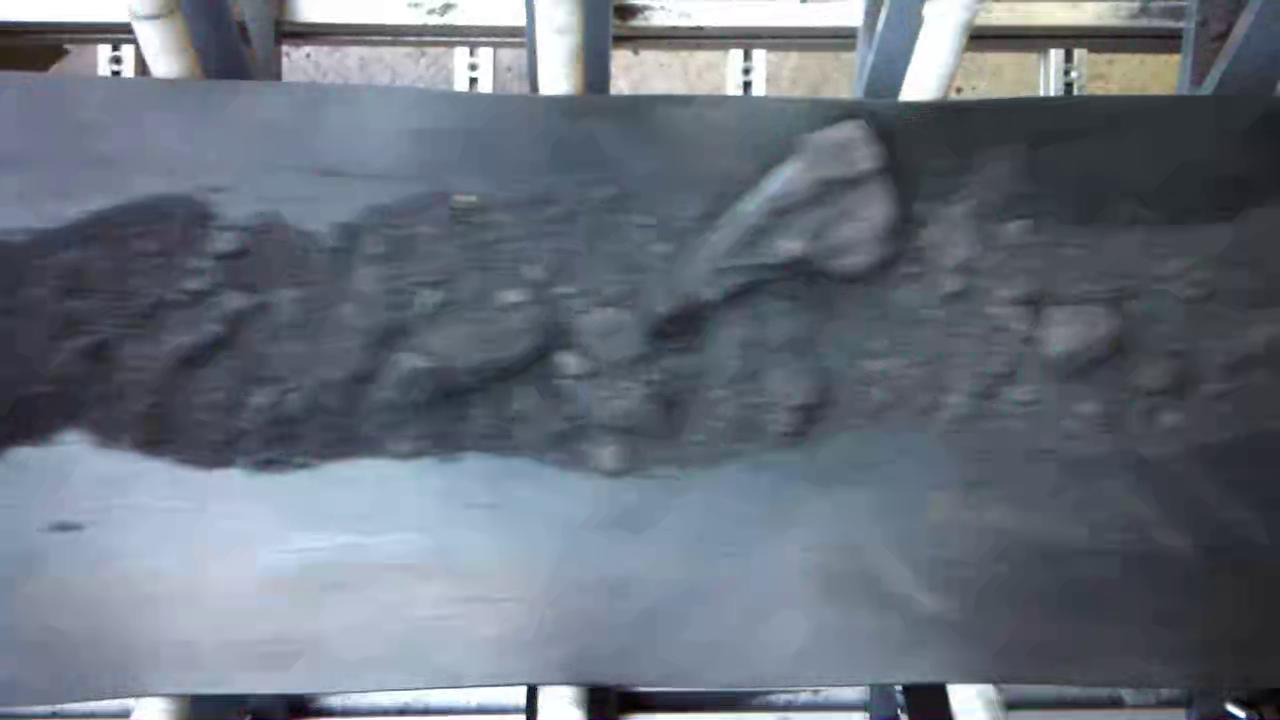conveyor: (0, 100, 1280, 681)
